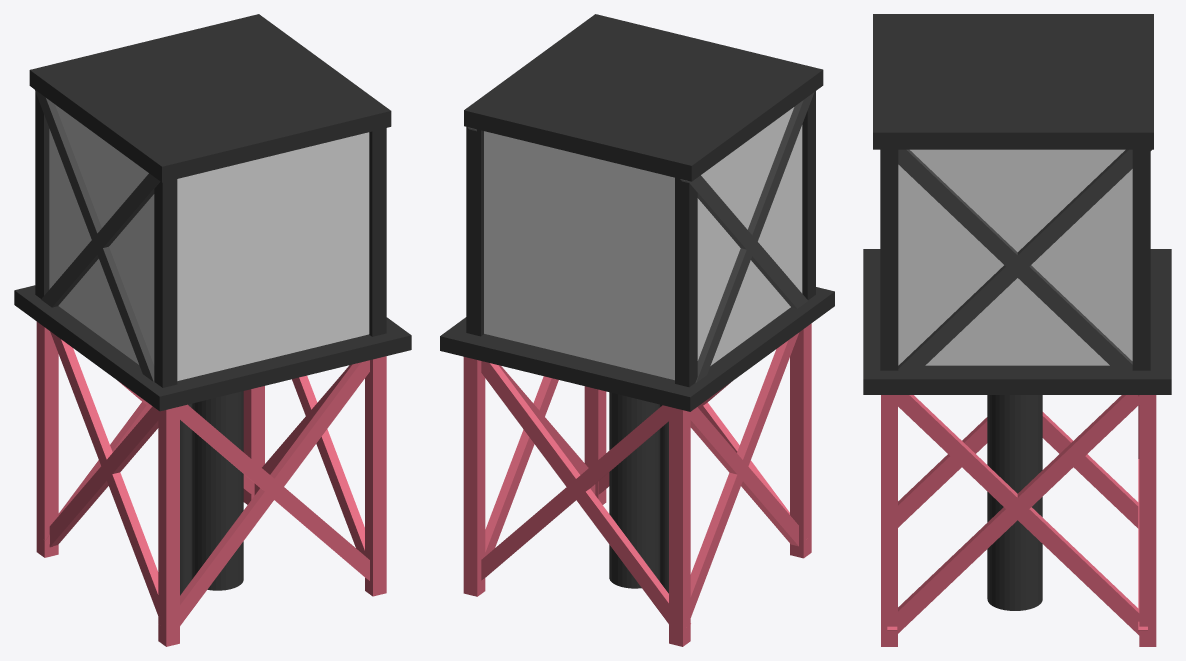
Rendered from WATER.fbx.
The picture shows the model from 3 angles, left to right: view 1: azimuth 30°, elevation 25°; view 2: azimuth 150°, elevation 25°; view 3: azimuth 270°, elevation 25°; orthographic projection. The views are drawn at different scales.
Visible parts, largest first — view 1: Cube.002, Cube.001; view 2: Cube.002, Cube.001; view 3: Cube.002, Cube.001.
Part boxes in pixels (x1=…): Cube.002: x1=14, y1=14, x2=411, y2=411; Cube.001: x1=35, y1=90, x2=386, y2=646; Cube.002: x1=440, y1=14, x2=834, y2=411; Cube.001: x1=463, y1=92, x2=814, y2=646; Cube.002: x1=863, y1=14, x2=1171, y2=394; Cube.001: x1=881, y1=149, x2=1156, y2=646.
Size of the model in its own units: 1117 by 2115 by 1117.
